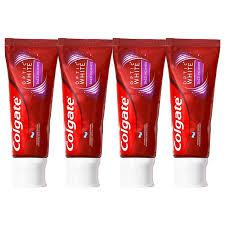toothpaste: (111, 30, 166, 191), (4, 32, 57, 186), (58, 34, 108, 191), (166, 34, 217, 187)
